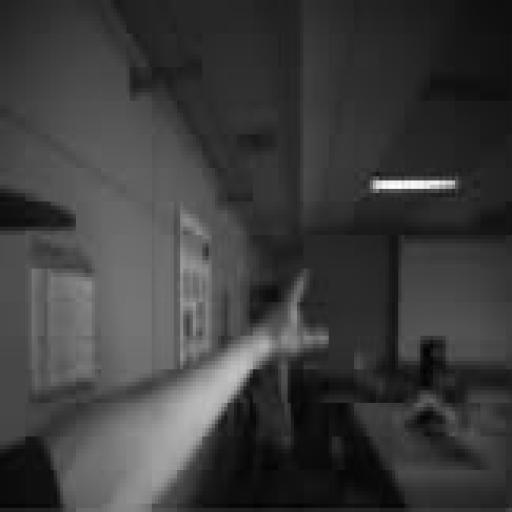human: (0, 273, 328, 507)
